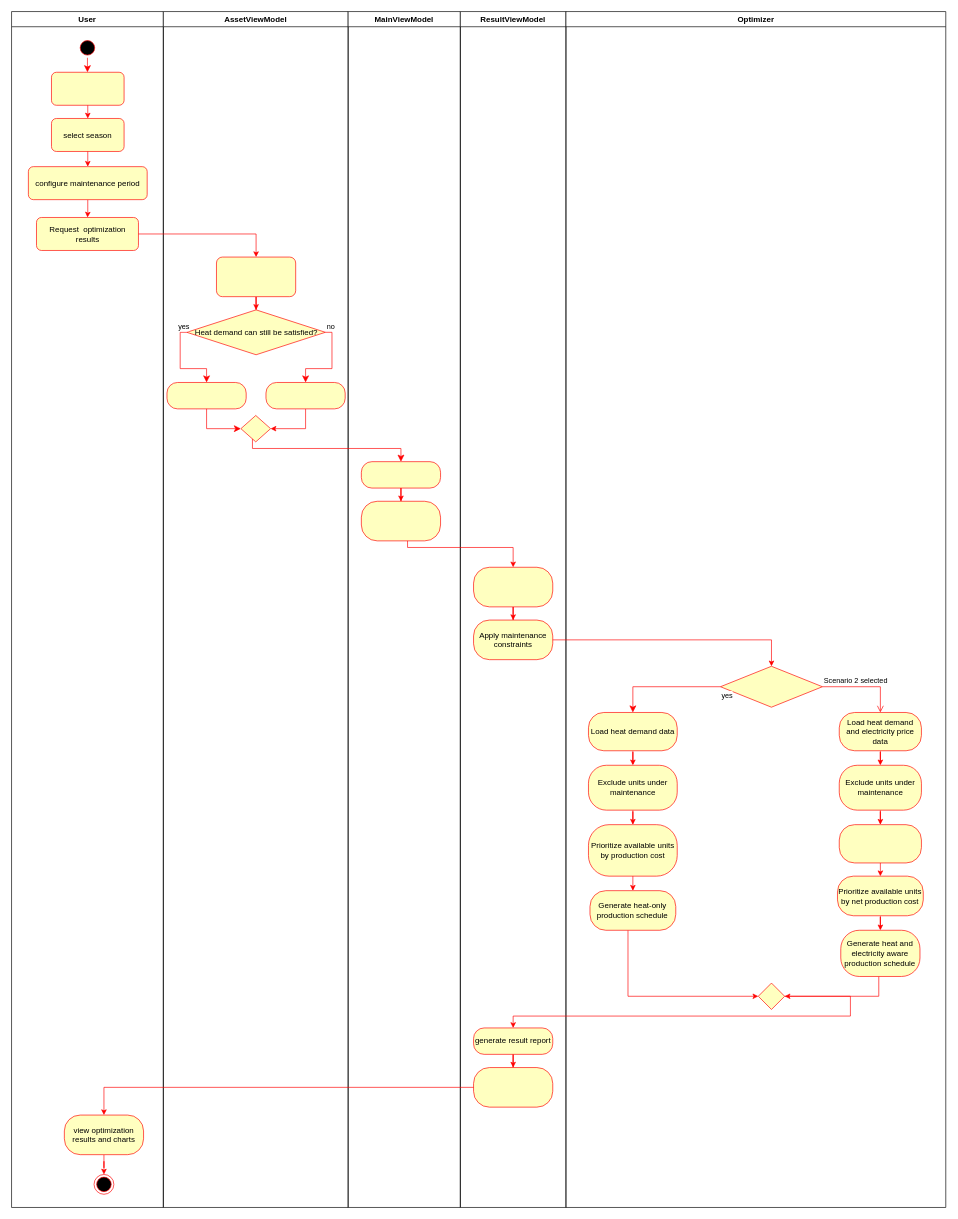
The diagram is 958 pixels wide and 1219 high, and some of its shapes have lost their labels. The centre of each missing label's shape, as x and y in pixels:
"Calculate Net production costs" goes at point 880,843.
"Confirm maintenance configuration" goes at point 206,395.
"Display maintenance warning" goes at point 305,395.
"Navigate to Result view" goes at point 401,474.
"Pass selected scenario, season, and unit configuration" goes at point 401,521.
"prepare optimization input" goes at point 513,587.
"prepare visualization data" goes at point 513,1087.
"Scenario 1 selected?" goes at point 771,686.
"Select scenario" goes at point 87,88.
"validate maintenance configuration" goes at point 256,276.
